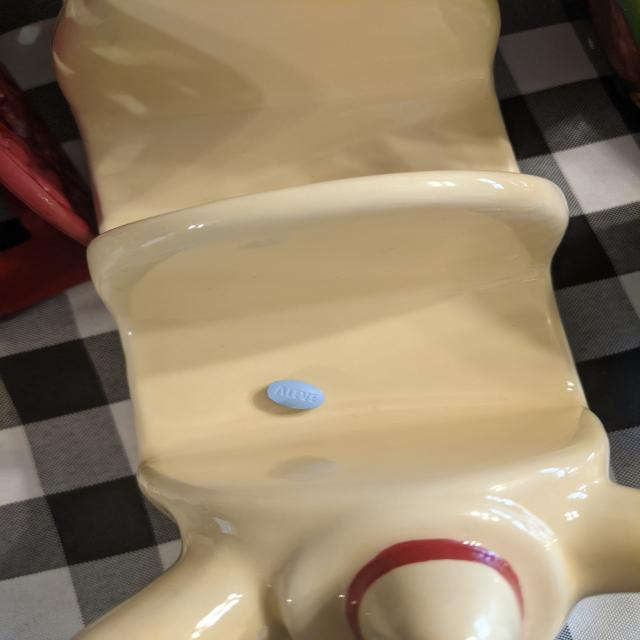non-organic waste: (265, 379, 326, 410)
